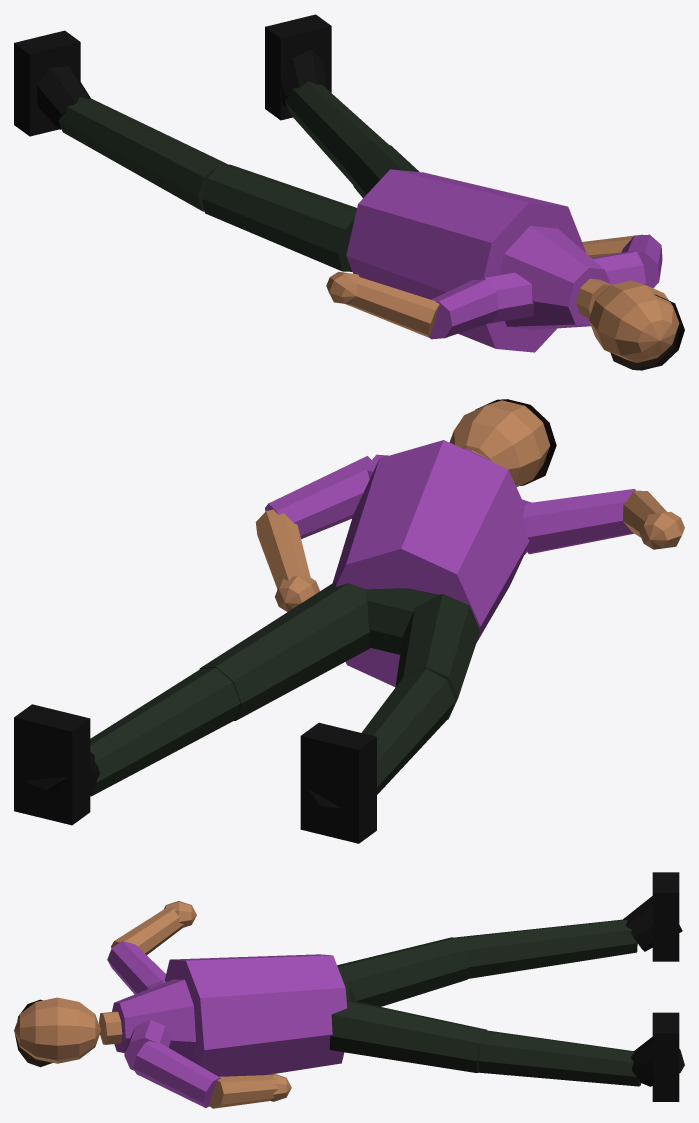
File: dancer_03_side_groove_cm.obj
The picture shows the model from 3 angles, top to bottom: view 1: azimuth 30°, elevation 25°; view 2: azimuth 150°, elevation 25°; view 3: azimuth 270°, elevation 25°; orthographic projection. The views are drawn at different scales.
Parts seen in each view (by area): view 1: dancer_03_side_groove; view 2: dancer_03_side_groove; view 3: dancer_03_side_groove.
Part boxes in pixels (bbox=[...]): dancer_03_side_groove: bbox=[14, 14, 684, 370]; dancer_03_side_groove: bbox=[14, 399, 684, 843]; dancer_03_side_groove: bbox=[14, 872, 684, 1108].
Size of the model in its own units: 93.1 by 35.96 by 177.
